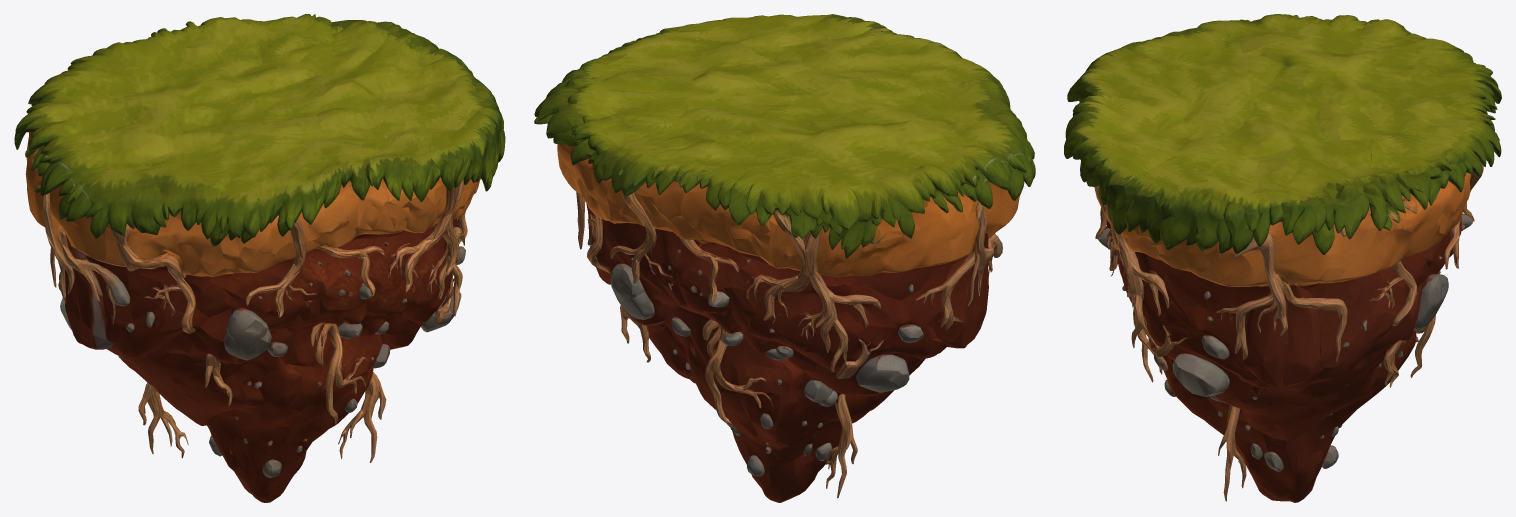
File: isla.glb
The picture shows the model from 3 angles, left to right: view 1: azimuth 30°, elevation 25°; view 2: azimuth 150°, elevation 25°; view 3: azimuth 270°, elevation 25°; orthographic projection.
Bounding box in the file's own units: 1.9 × 1.67 × 1.64.
Materials: 1 (1 with a texture image).
